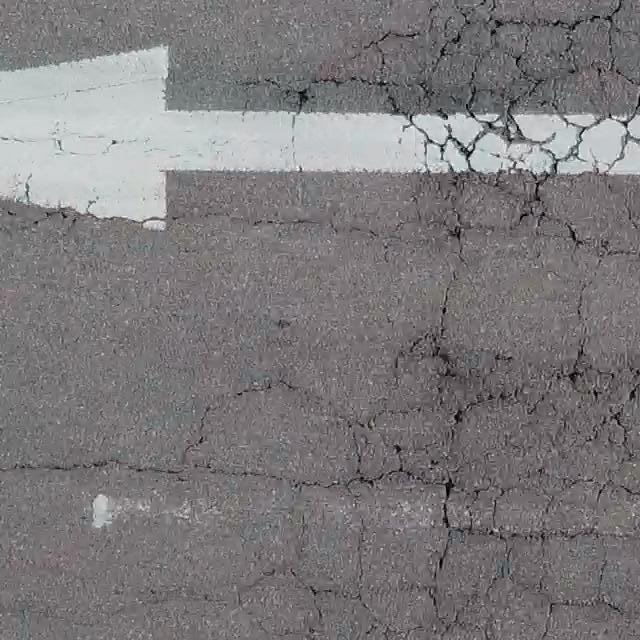GRIETA: (0, 198, 283, 232), (0, 457, 182, 474)
PIEL DE COCODRILO: (179, 0, 639, 639)
